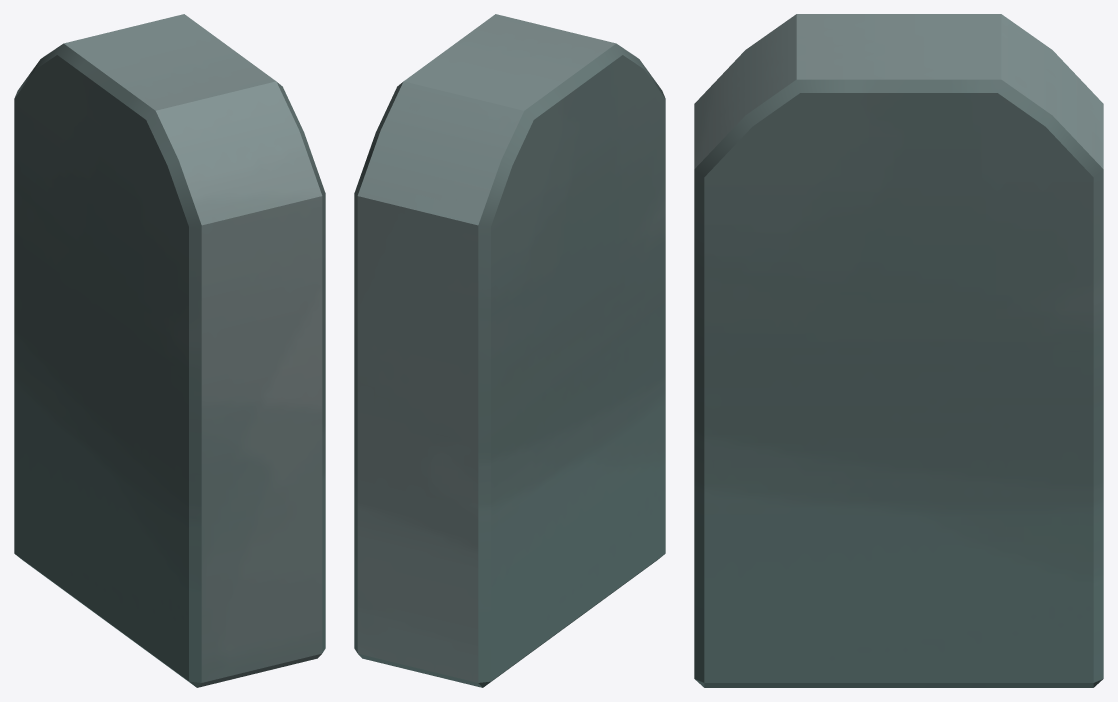
File: grave.fbx
3 views of the same model, side by side, from view 1: azimuth 30°, elevation 25°; view 2: azimuth 150°, elevation 25°; view 3: azimuth 270°, elevation 25° (orthographic). The views are drawn at different scales.
Parts seen in each view (by area): view 1: grave; view 2: grave; view 3: grave.
Part boxes in pixels (x1,y1,x2,y2): grave: (14, 14, 325, 687); grave: (354, 14, 665, 687); grave: (694, 14, 1103, 687).
Size of the model in its own units: 30 by 115 by 70.
